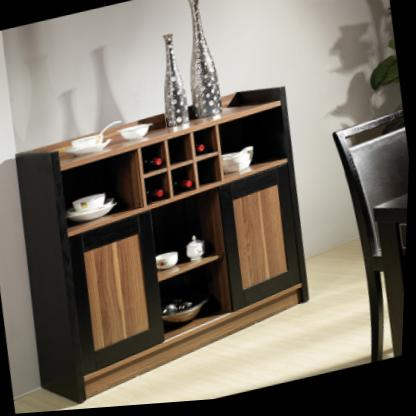Cupboard: (18, 92, 311, 405)
